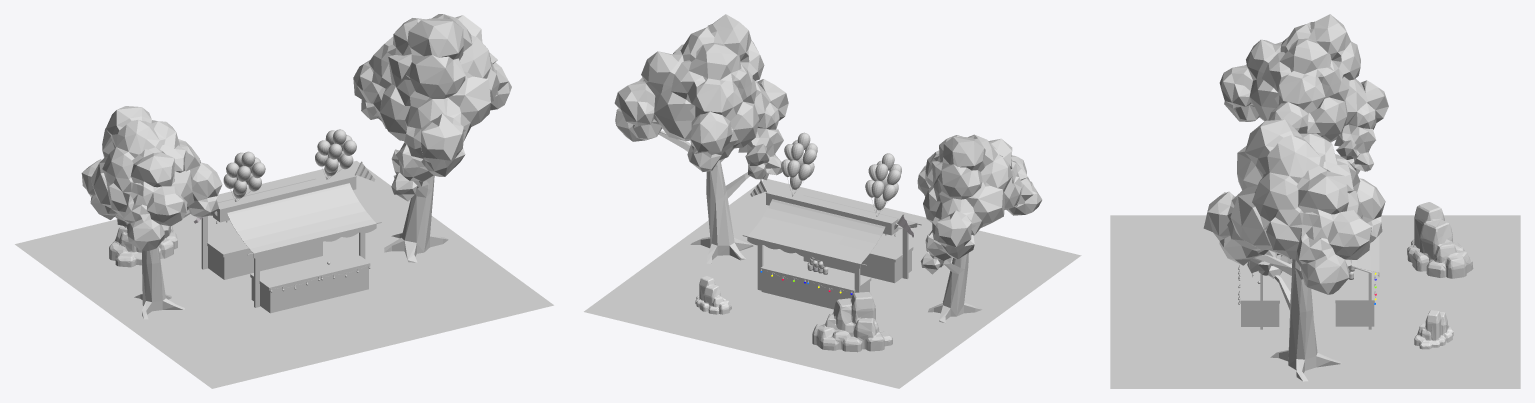
The model's file is Juego Latas.fbx.
3 views of the same model, side by side, from view 1: azimuth 30°, elevation 25°; view 2: azimuth 150°, elevation 25°; view 3: azimuth 270°, elevation 25° (orthographic). The views are drawn at different scales.
Visible parts, largest first — view 1: Plane, _6_tree.001, _6_tree.002, Plane.007, Cube.057, Cube.042, Cube.041, Rock_1_, Cube.003; view 2: Plane, _6_tree.001, _6_tree.002, Plane.006, Cube.042, Rock_1_, Cube.057, Cube.041, Rock_1_.002, Cube.003; view 3: Plane, _6_tree.001, _6_tree.002, Rock_1_, Cube.057, Cube.042, Rock_1_.002, Plane.006, Cube.003.
Boxes of the visible parts, x1,y1,x2,y2 form: Plane: (15,161,553,388); _6_tree.001: (353,14,511,262); _6_tree.002: (81,106,222,319); Plane.007: (227,183,376,258); Cube.057: (250,249,370,313); Cube.042: (207,232,322,279); Cube.041: (213,171,356,222); Rock_1_: (109,225,177,267); Cube.003: (201,214,365,307); Plane: (584,179,1081,388); _6_tree.001: (614,14,788,264); _6_tree.002: (917,134,1042,323); Plane.006: (747,199,885,268); Cube.042: (760,255,871,309); Rock_1_: (812,292,892,352); Cube.057: (803,239,913,283); Cube.041: (766,188,898,235); Rock_1_.002: (695,276,731,314); Cube.003: (757,227,908,292); Plane: (1110,215,1520,388); _6_tree.001: (1203,119,1385,381); _6_tree.002: (1219,14,1388,174); Rock_1_: (1407,202,1473,278); Cube.057: (1240,263,1279,326); Cube.042: (1335,269,1374,326); Rock_1_.002: (1414,310,1453,349); Plane.006: (1351,235,1379,276); Cube.003: (1260,261,1371,329).
Size of the model in its own units: 1630 by 889 by 1329.
